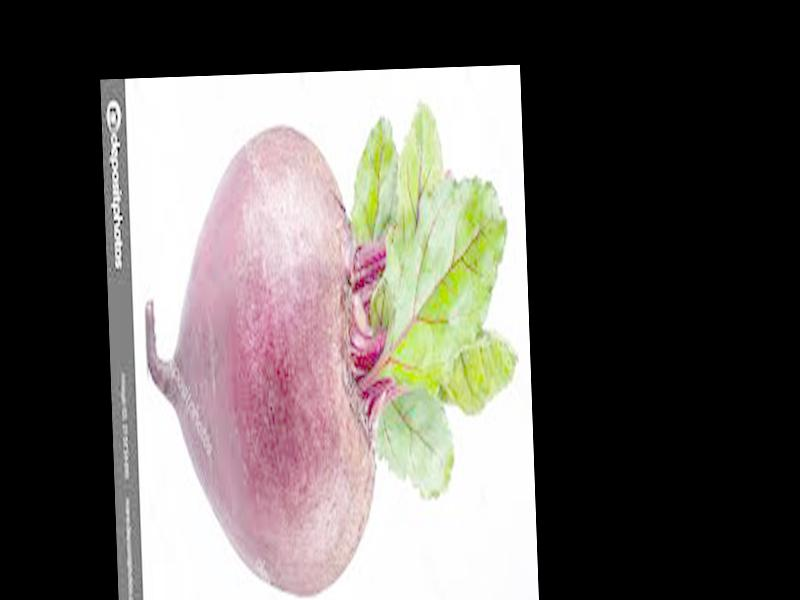Beet: (140, 100, 525, 600)
